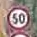limite 50: (7, 6, 30, 30)
